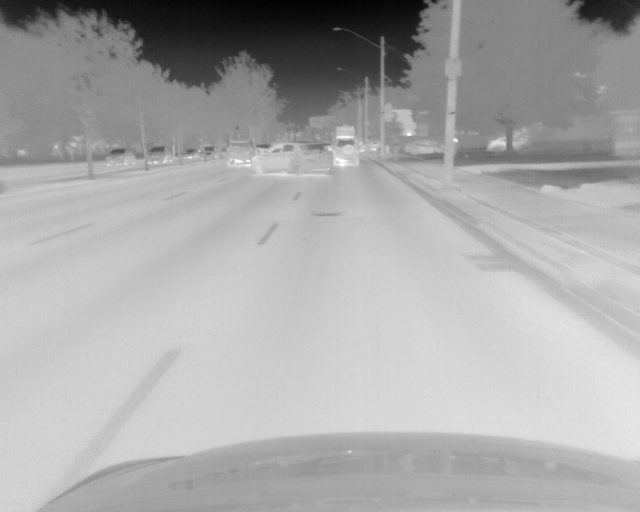car: (253, 142, 332, 175), (333, 136, 360, 167), (225, 140, 253, 169), (485, 135, 527, 153), (404, 138, 445, 156), (103, 148, 136, 168), (147, 146, 171, 167), (360, 139, 385, 154), (201, 146, 218, 162), (181, 147, 199, 162), (255, 142, 269, 155)
